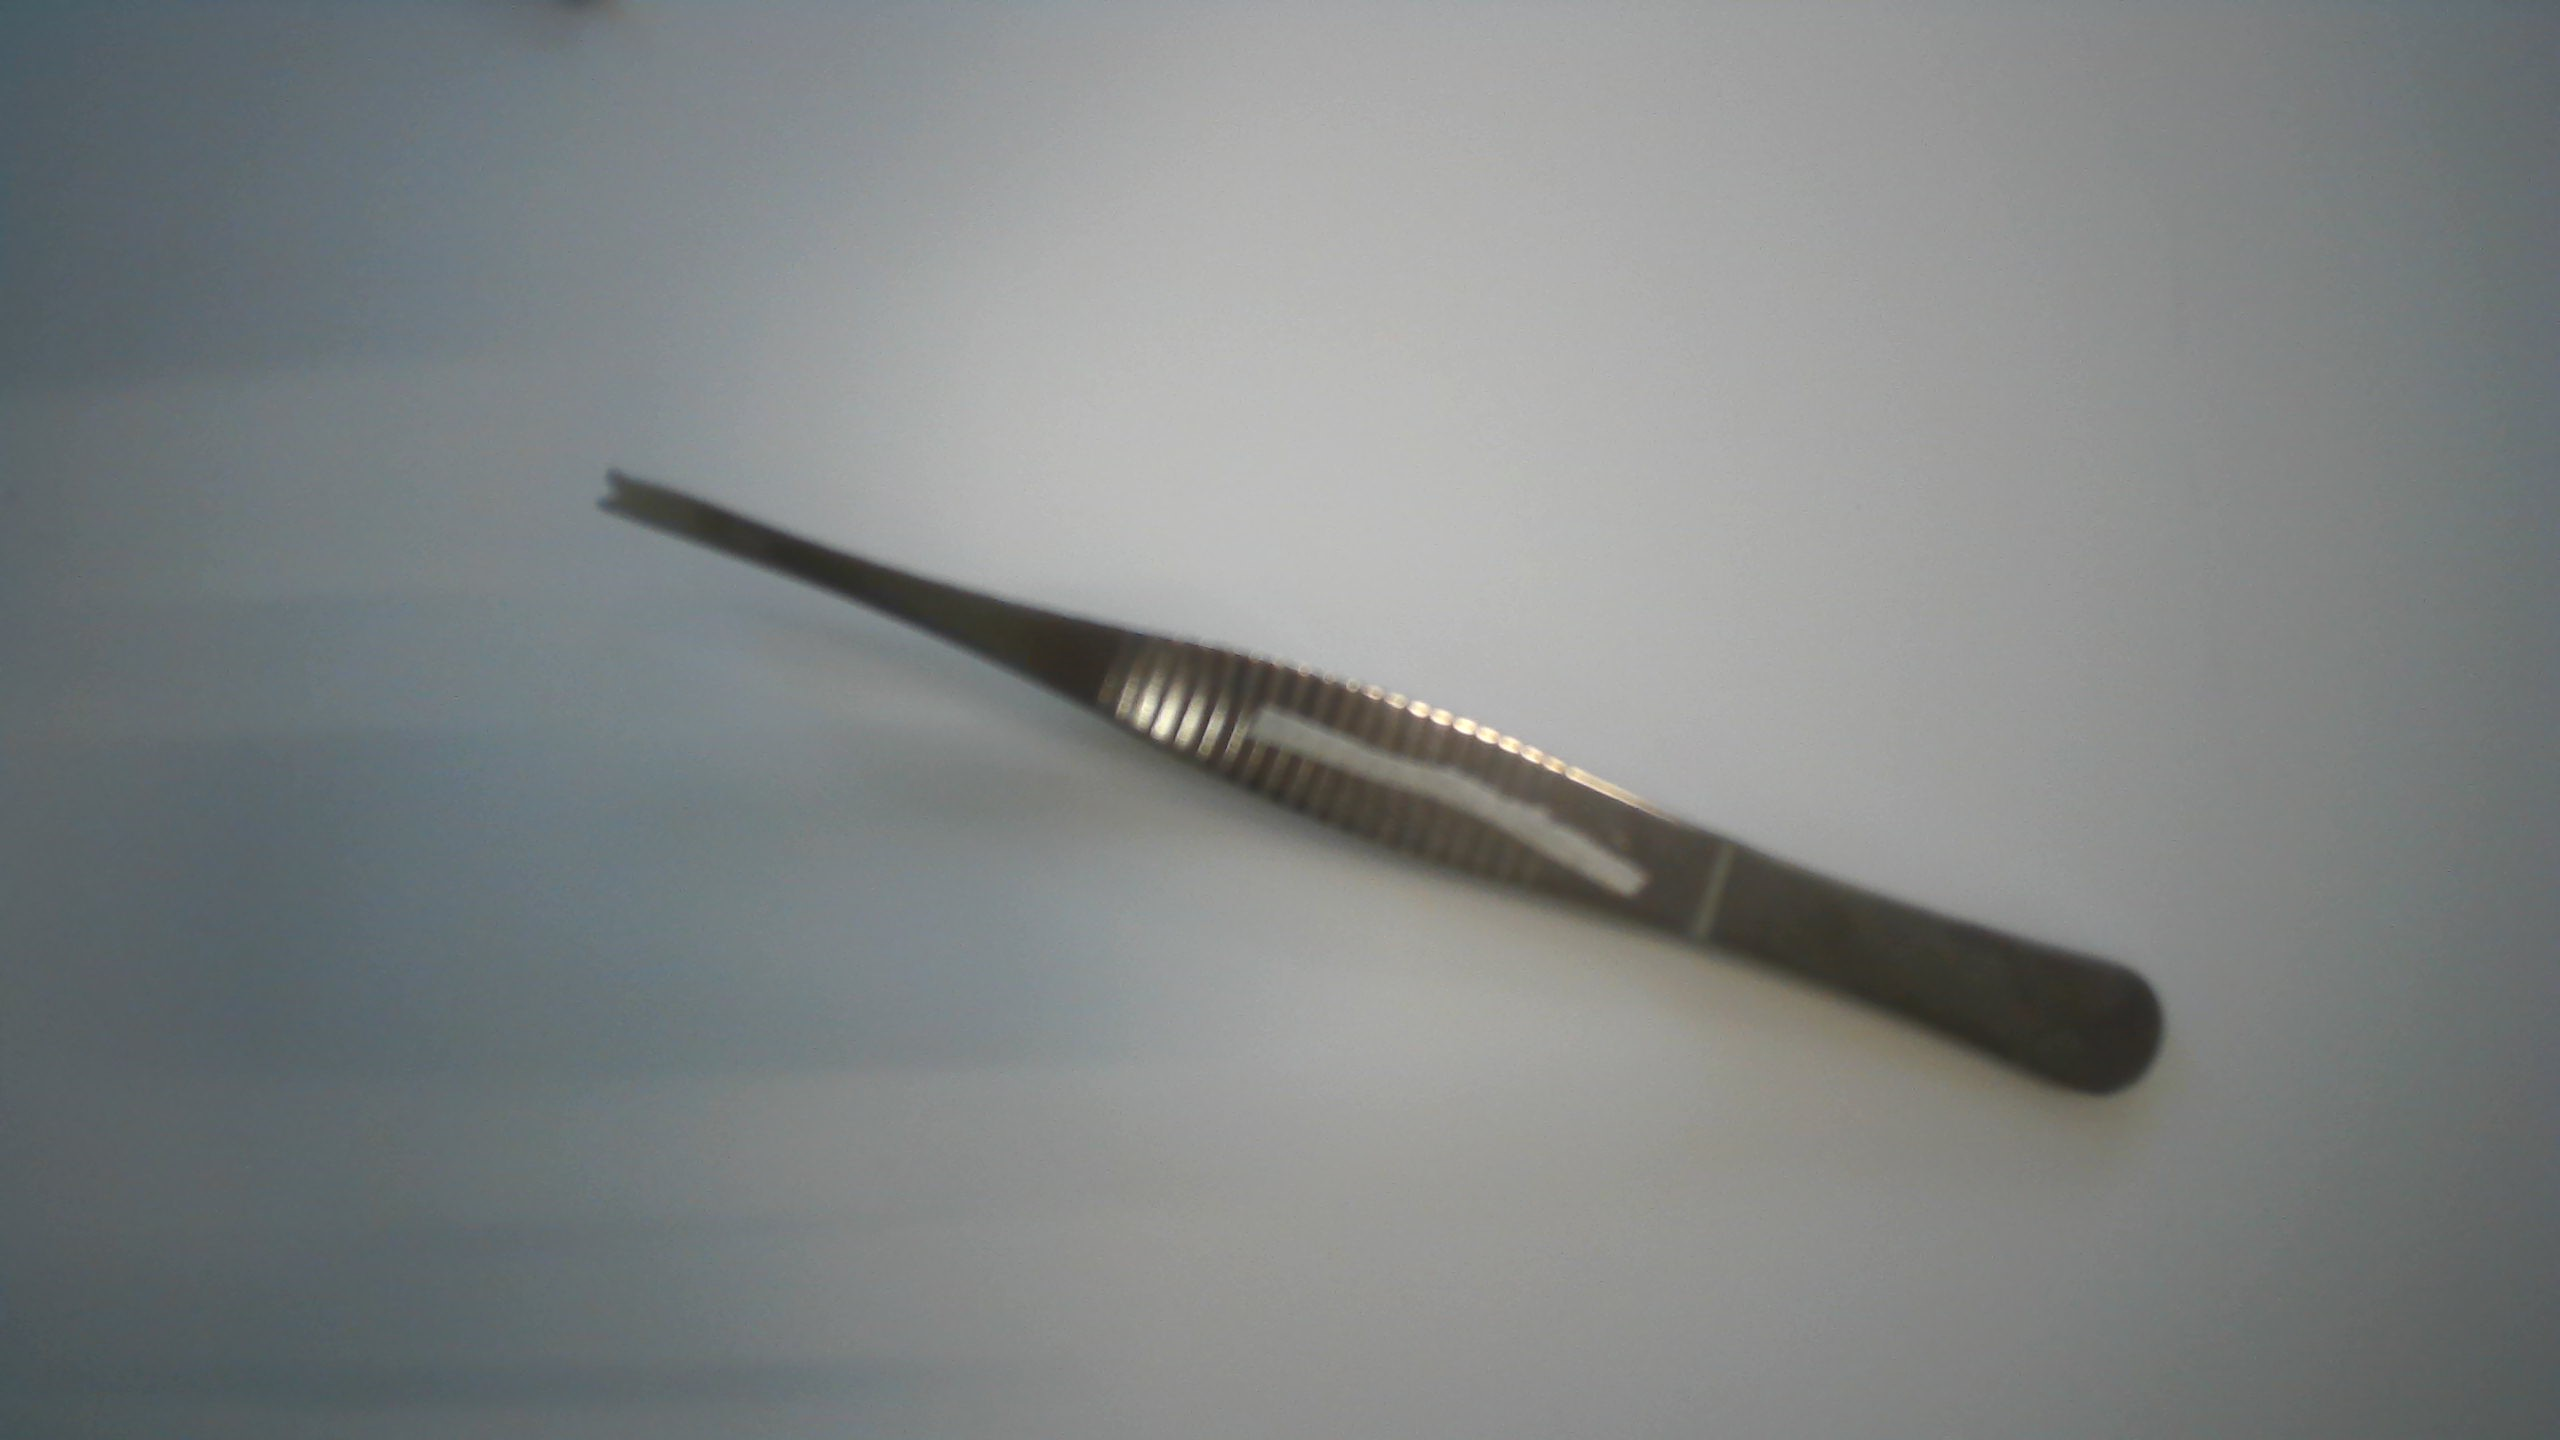Scratches: (1248, 689, 1670, 927)
